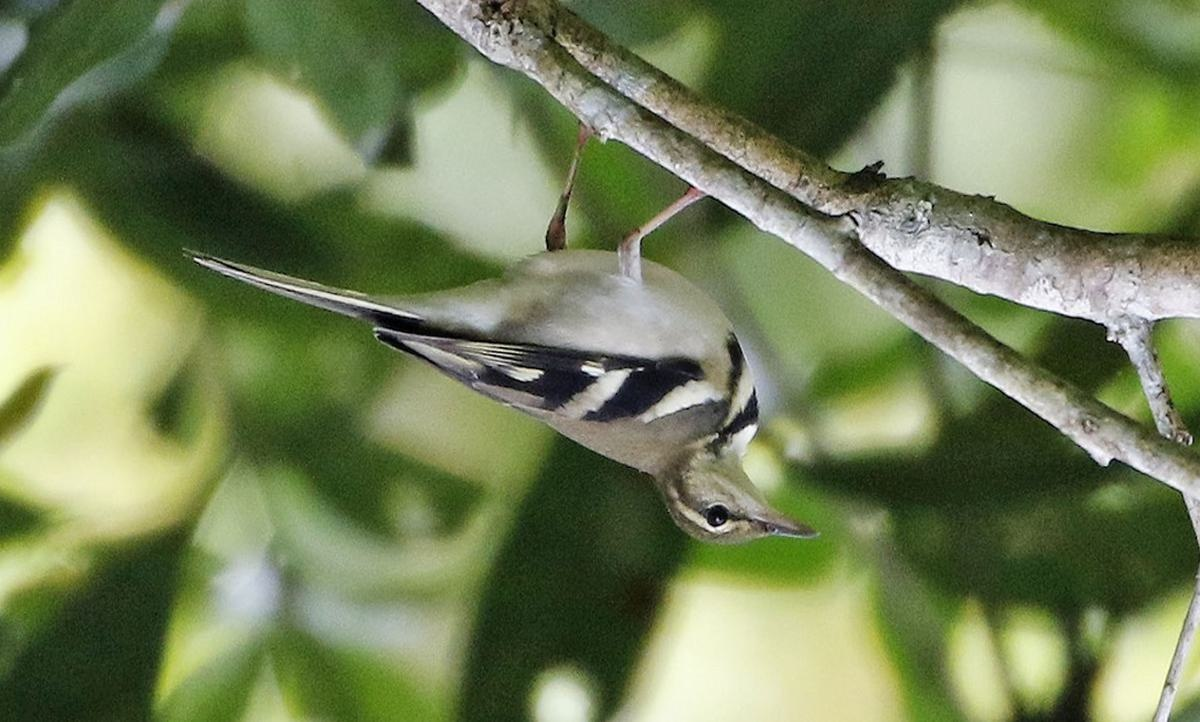wagtail: (271, 167, 833, 582)
